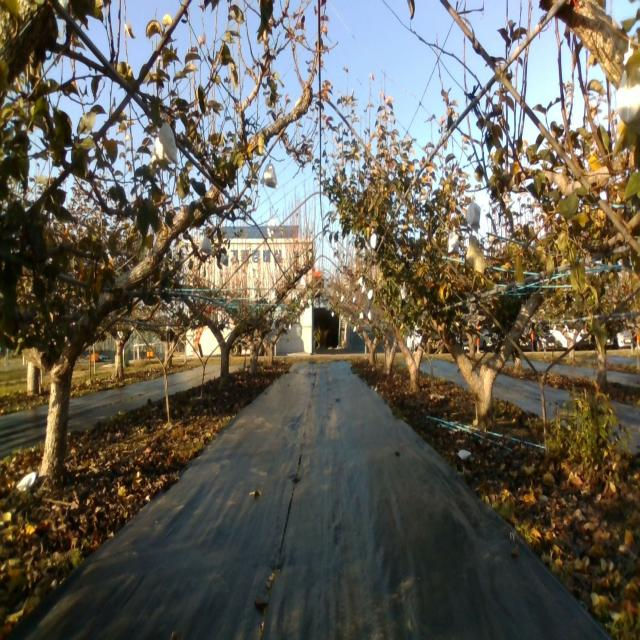pearbags: (616, 67, 640, 126), (151, 122, 177, 164), (260, 159, 278, 189), (466, 202, 481, 233), (199, 234, 214, 255), (448, 230, 460, 252), (267, 218, 277, 242)
